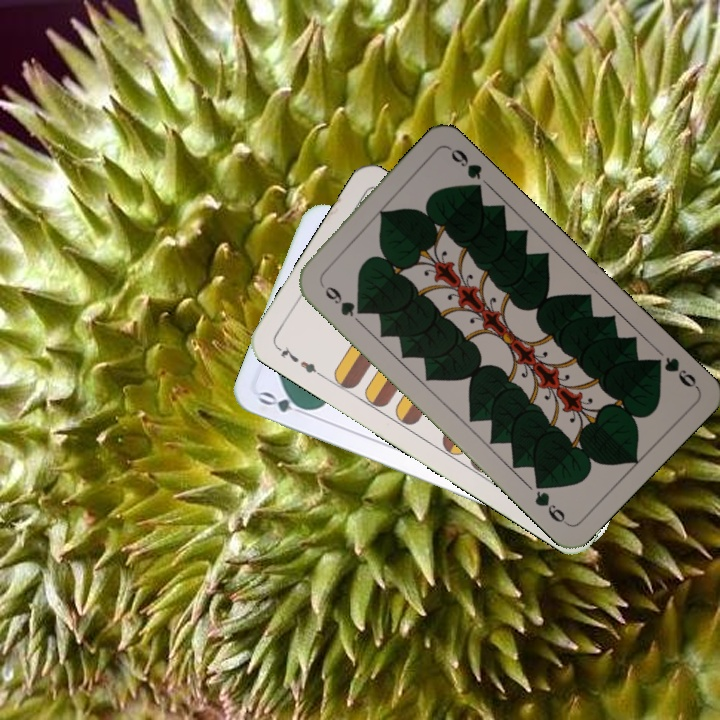E7: (272, 342, 325, 380)
G9: (646, 352, 701, 391), (321, 282, 367, 320)
GO: (255, 387, 314, 419)
